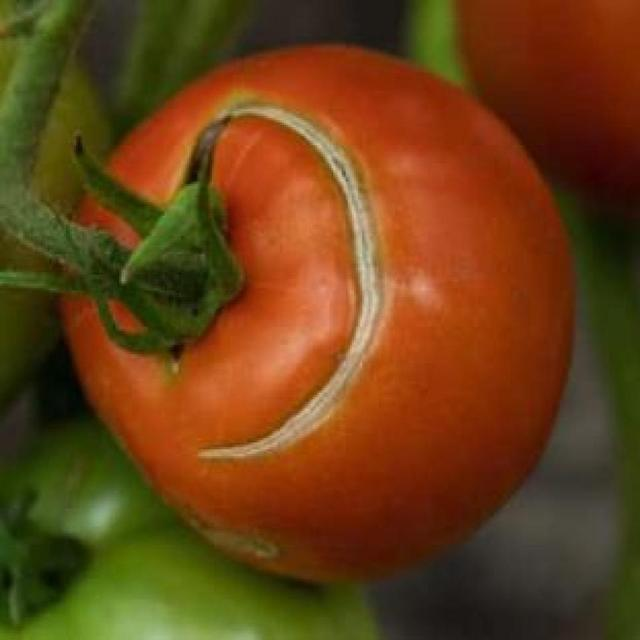Cracking Fruit: (115, 63, 261, 328)
